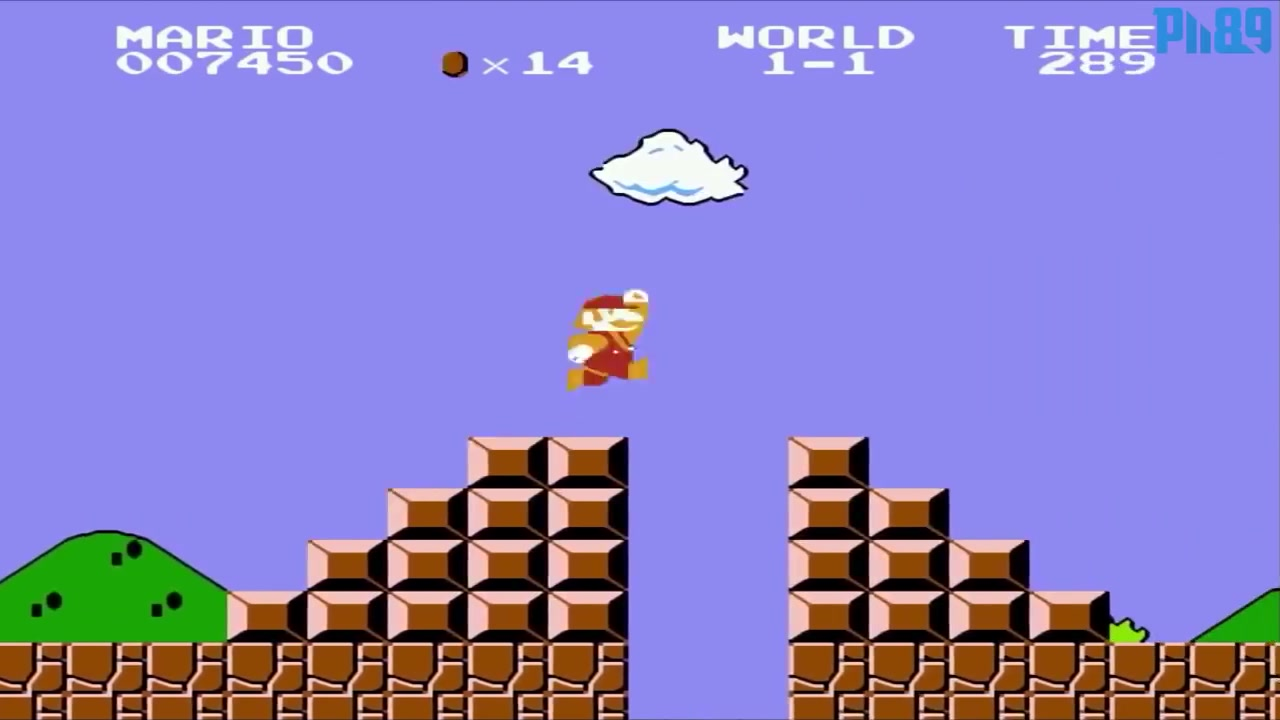mario: (559, 278, 656, 401)
